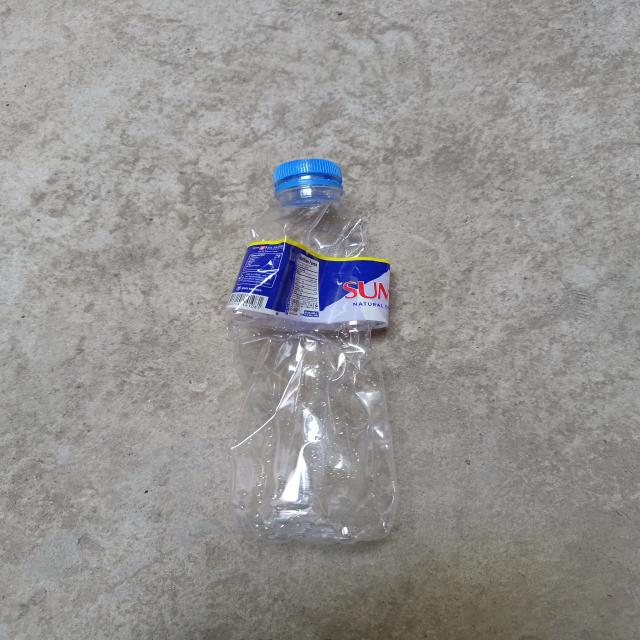Bottle: (227, 159, 398, 543)
